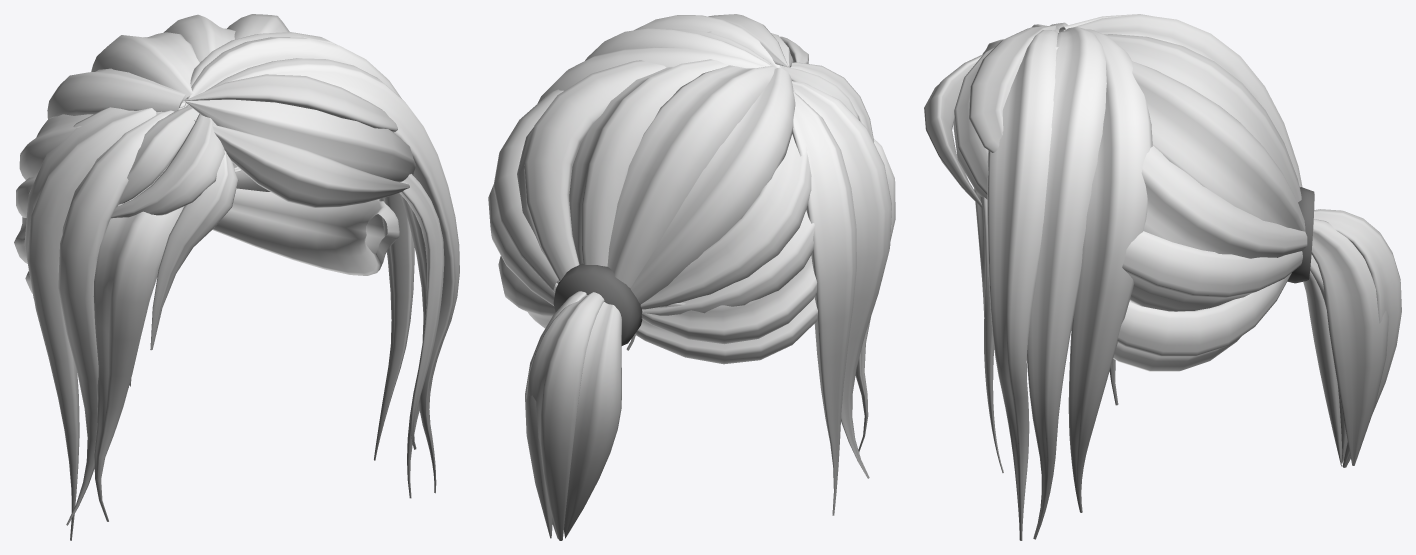
Rendered from haira2.fbx.
The picture shows the model from 3 angles, left to right: view 1: azimuth 30°, elevation 25°; view 2: azimuth 150°, elevation 25°; view 3: azimuth 270°, elevation 25°; orthographic projection. The views are drawn at different scales.
Parts seen in each view (by area): view 1: NurbsPath.003; view 2: NurbsPath.003; view 3: NurbsPath.003.
Boxes of the visible parts, box(x1,y1,x2,y2) form: NurbsPath.003: box(14, 14, 459, 540); NurbsPath.003: box(488, 14, 895, 540); NurbsPath.003: box(924, 14, 1401, 540).
Size of the model in its own units: 348 by 294 by 355.
